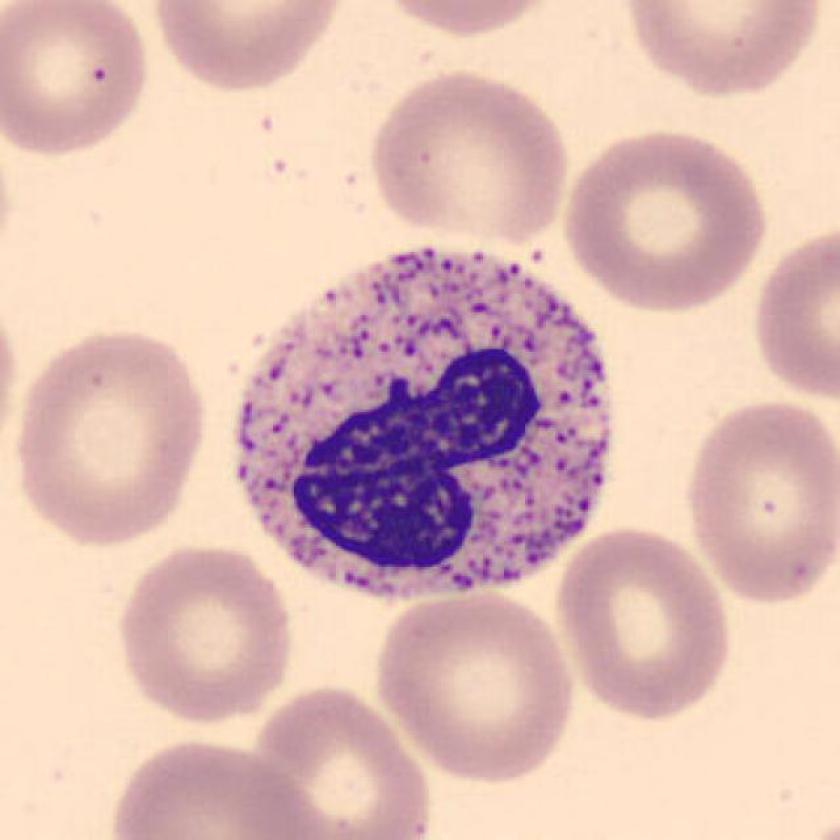neutrophil: (237, 247, 610, 600)
